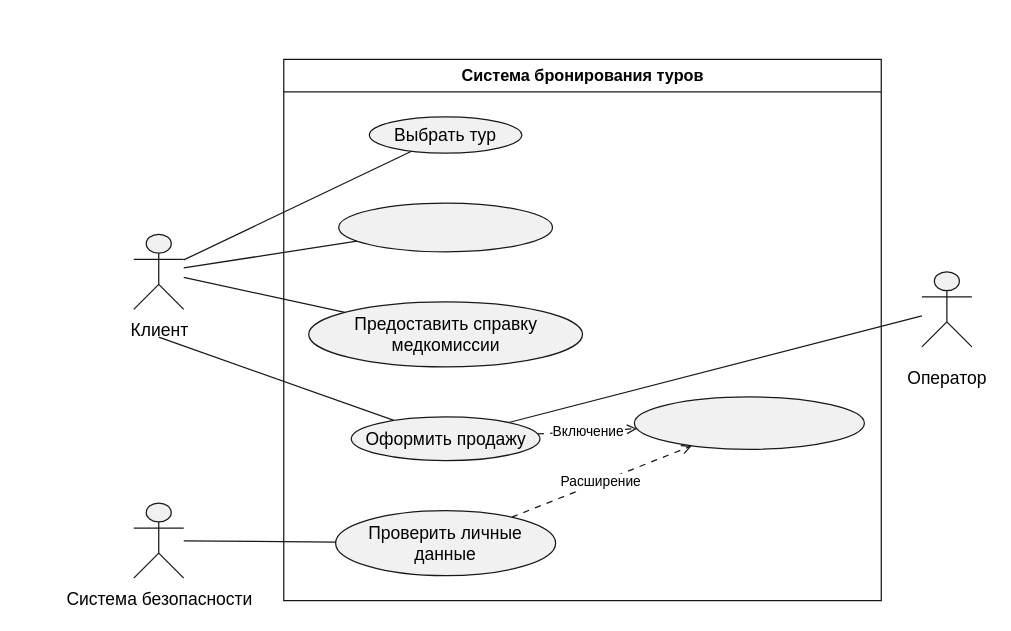
This 1011x631 diagram has some shape labels left out. The shapes that lost their labels are listed below. From the top down, each one's box as (x1, y1, x2, y2) in pixels, then its label:
(338, 202, 552, 252): Забронировать билет
(633, 396, 864, 449): Верифицировать оплату
